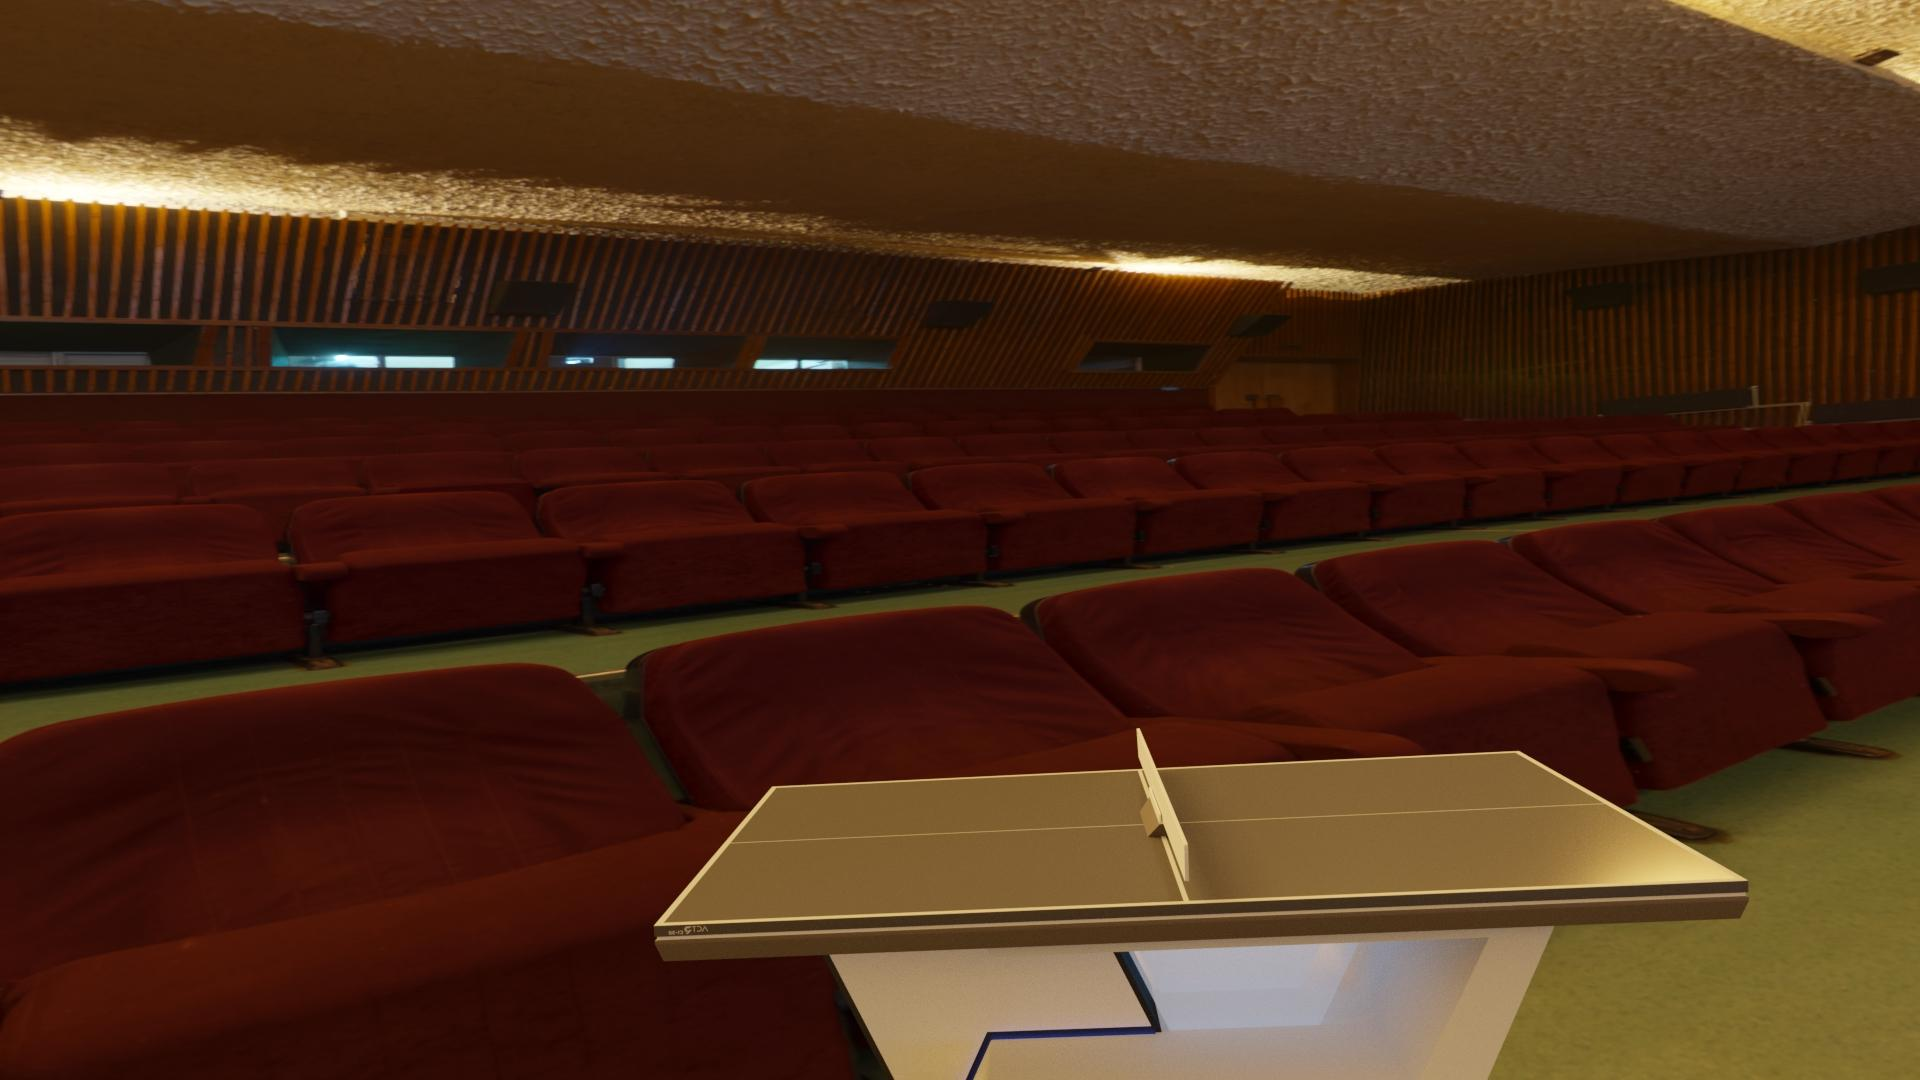table: (663, 753, 1735, 923)
